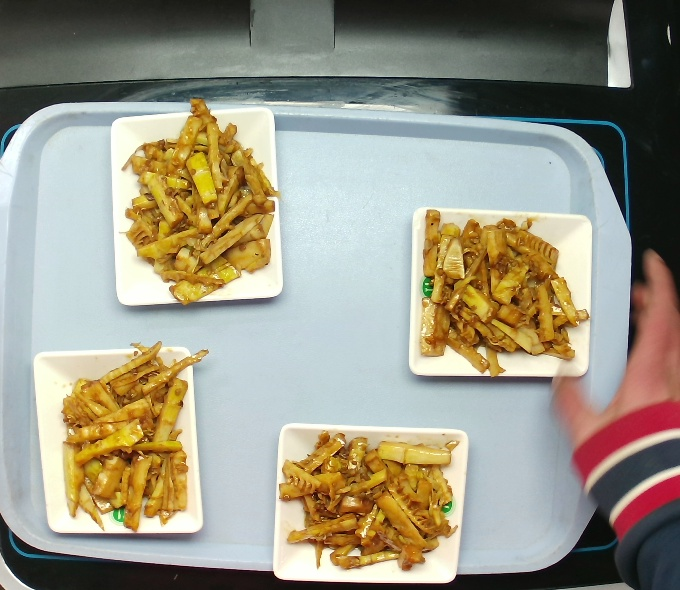wcq-QingChaoChunSun: (113, 94, 283, 307), (51, 325, 217, 542), (401, 212, 589, 378), (271, 425, 470, 581)
